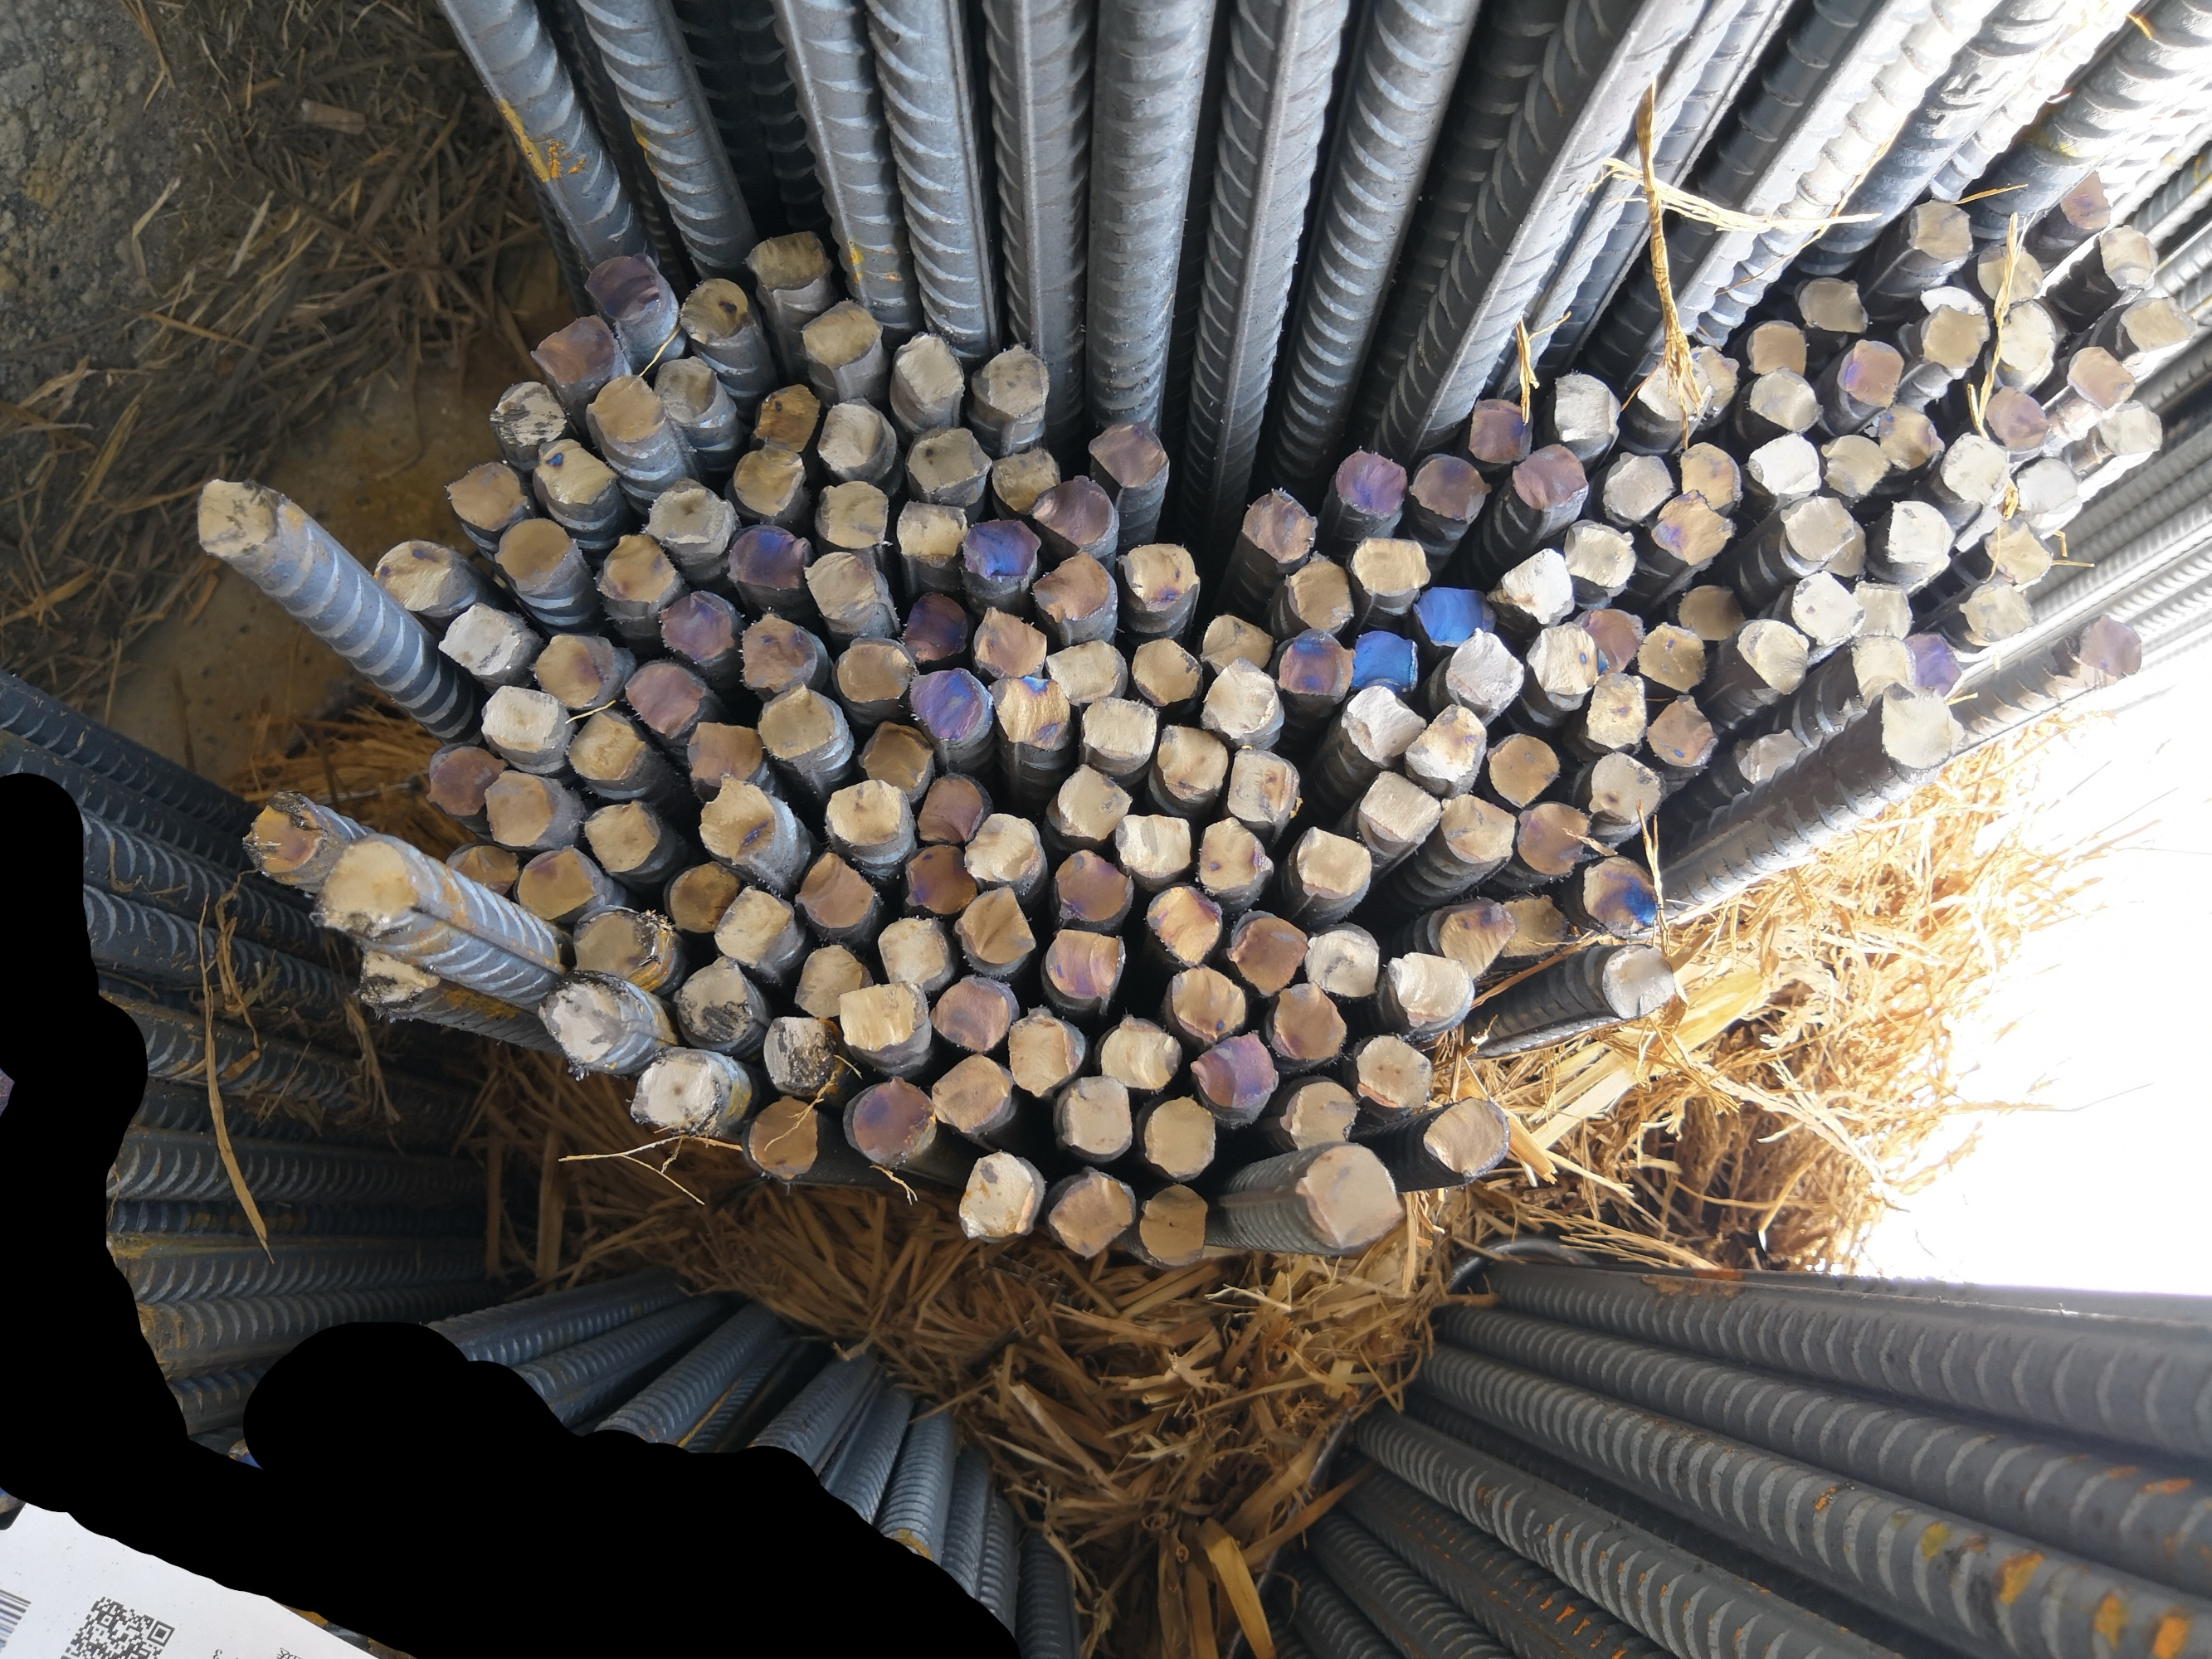rebar: (1292, 1141, 1403, 1248), (309, 831, 418, 936), (539, 969, 633, 1073), (193, 474, 286, 572), (847, 1077, 940, 1171), (1189, 1028, 1279, 1121), (666, 957, 755, 1049), (629, 1047, 723, 1134), (242, 788, 331, 878), (1048, 1169, 1137, 1260), (1422, 1094, 1511, 1180), (1236, 484, 1325, 570), (1340, 681, 1429, 767), (955, 1148, 1037, 1241), (833, 979, 927, 1058), (744, 1089, 821, 1185), (434, 598, 521, 681), (711, 880, 791, 971), (795, 847, 880, 931), (929, 972, 1014, 1056), (621, 660, 708, 742), (1405, 699, 1487, 786), (1651, 486, 1738, 568), (370, 533, 460, 612), (699, 774, 777, 864), (1044, 925, 1130, 1007), (985, 671, 1072, 751), (1288, 824, 1375, 904), (1384, 950, 1475, 1026), (1192, 814, 1274, 897), (1086, 415, 1171, 495), (1227, 911, 1307, 997), (1579, 856, 1665, 936), (1494, 545, 1579, 626), (424, 742, 511, 821), (1140, 1096, 1218, 1183), (1447, 622, 1525, 709), (568, 903, 657, 979), (793, 295, 882, 371), (530, 312, 621, 387), (350, 941, 443, 1014), (514, 840, 596, 922), (739, 612, 821, 694), (955, 885, 1037, 967), (929, 1053, 1011, 1134), (1100, 1014, 1184, 1094), (593, 530, 678, 608), (1032, 471, 1117, 549), (1145, 882, 1224, 967), (1272, 624, 1358, 702), (563, 708, 650, 784), (1077, 694, 1157, 775), (905, 662, 985, 744), (1053, 845, 1133, 927), (1358, 769, 1440, 849), (1600, 943, 1680, 1025), (579, 798, 662, 877), (1269, 979, 1347, 1063), (1435, 901, 1518, 979), (1056, 1072, 1133, 1157), (1030, 549, 1117, 624), (1883, 683, 1958, 770), (821, 777, 912, 849), (762, 1014, 840, 1096), (755, 685, 837, 763), (1201, 657, 1279, 739), (1435, 791, 1517, 870), (478, 683, 561, 760), (971, 340, 1055, 416), (1049, 763, 1135, 838), (1525, 622, 1611, 697), (1008, 1006, 1075, 1100), (532, 629, 608, 711), (852, 716, 934, 793), (1170, 962, 1252, 1039), (483, 767, 558, 850), (584, 371, 668, 446), (1117, 540, 1201, 615), (640, 474, 727, 545), (906, 423, 994, 495), (1138, 1182, 1210, 1269), (741, 227, 831, 295), (1597, 448, 1677, 525), (659, 861, 741, 936), (1736, 613, 1809, 697), (532, 437, 619, 507), (1558, 518, 1637, 594), (802, 549, 882, 624), (582, 249, 662, 324), (1279, 1075, 1360, 1150), (1356, 1035, 1436, 1110), (1283, 551, 1358, 631), (1642, 690, 1717, 770), (446, 458, 528, 532), (654, 589, 736, 662), (727, 521, 809, 594), (485, 376, 567, 450), (495, 516, 572, 592), (1515, 800, 1591, 877), (791, 945, 870, 1019), (901, 842, 980, 917), (1633, 619, 1712, 694), (1548, 368, 1621, 448), (960, 514, 1042, 586), (1110, 807, 1192, 878), (680, 720, 763, 789), (1405, 453, 1490, 521), (889, 329, 964, 406), (1485, 730, 1560, 807), (915, 770, 988, 849), (962, 812, 1041, 885), (1747, 430, 1825, 504), (812, 397, 887, 472), (1156, 723, 1231, 798), (1128, 633, 1203, 708), (1781, 491, 1856, 566), (1788, 568, 1863, 643), (730, 444, 807, 518), (812, 479, 891, 551), (1584, 751, 1665, 821), (1958, 572, 2038, 641), (1347, 533, 1433, 598), (1414, 584, 1499, 648), (1227, 748, 1300, 823), (1304, 927, 1381, 999), (988, 441, 1067, 511), (1513, 444, 1591, 514), (833, 636, 915, 702), (1044, 638, 1126, 704), (875, 917, 950, 988), (899, 587, 969, 664), (1919, 301, 1987, 380), (1586, 669, 1652, 749), (896, 498, 969, 570), (974, 605, 1048, 676), (1347, 627, 1422, 697), (1639, 352, 1713, 422), (1874, 401, 1949, 471), (1333, 450, 1410, 518), (1881, 500, 1952, 572), (1818, 429, 1890, 500), (1980, 514, 2052, 586), (678, 275, 751, 345), (751, 380, 824, 450), (1466, 392, 1536, 465), (2062, 343, 2137, 411), (2067, 613, 2142, 681), (1982, 383, 2053, 453), (1938, 430, 2008, 502), (1747, 366, 1822, 432), (1196, 608, 1272, 673), (1494, 894, 1569, 958), (1994, 300, 2057, 376), (1578, 605, 1647, 673), (654, 350, 720, 422), (1853, 629, 1917, 702), (1835, 338, 1903, 406), (1905, 195, 1977, 260), (1736, 727, 1811, 788), (443, 840, 519, 899), (1797, 275, 1874, 335), (1677, 437, 1741, 507), (2097, 397, 2167, 462), (2095, 221, 2156, 295), (1905, 626, 1966, 699), (2116, 298, 2198, 352), (1677, 582, 1748, 643), (1680, 343, 1741, 415), (1916, 279, 1991, 336), (1743, 315, 1809, 380), (2017, 457, 2081, 521), (1849, 575, 1914, 640), (1977, 240, 2039, 303), (2052, 173, 2109, 232), (1825, 518, 1876, 584)
